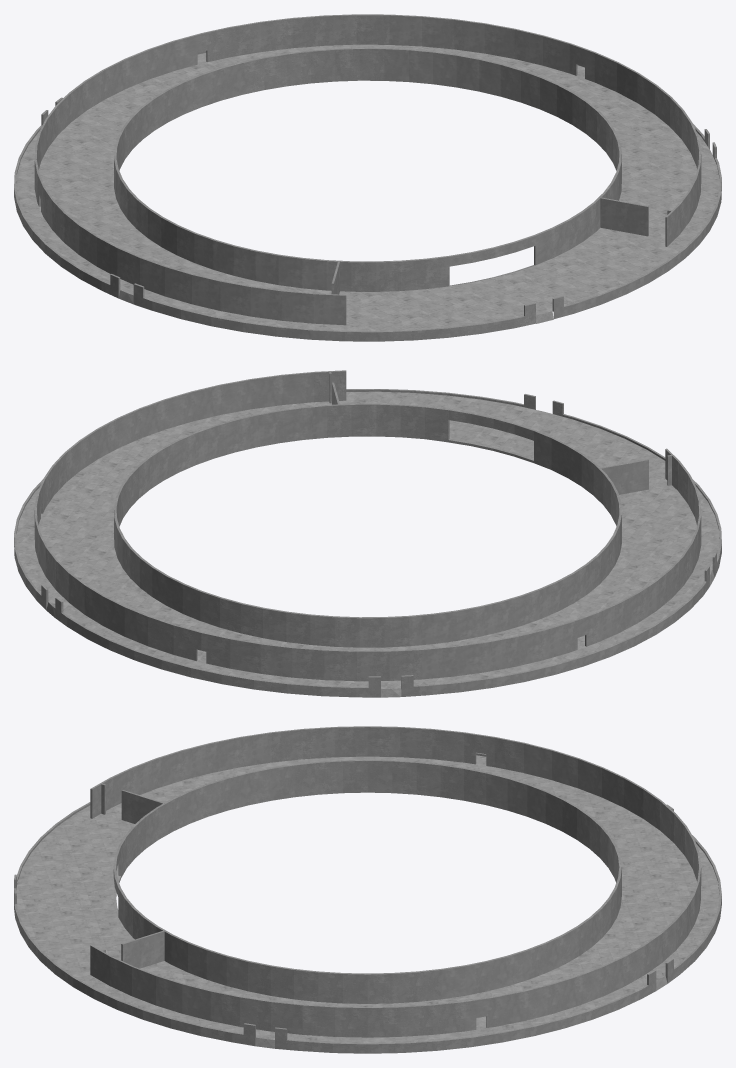
The picture shows the model from 3 angles, top to bottom: view 1: azimuth 30°, elevation 25°; view 2: azimuth 150°, elevation 25°; view 3: azimuth 270°, elevation 25°; orthographic projection.
Parts seen in each view (by area): view 1: Base; view 2: Base; view 3: Base.
Boxes of the visible parts, left/top/right/bottom form: Base: left=14, top=14, right=721, bottom=341; Base: left=14, top=370, right=721, bottom=697; Base: left=14, top=726, right=721, bottom=1053.
Bounding box in the file's own units: 163 × 9.5 × 163.
Materials: 3 (3 with a texture image).
